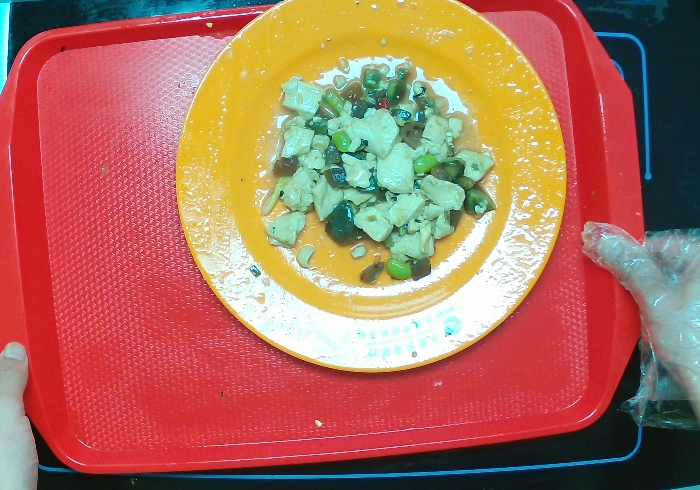YKMZ-Ju_Se_Mian_Pan: (169, 4, 568, 379)
